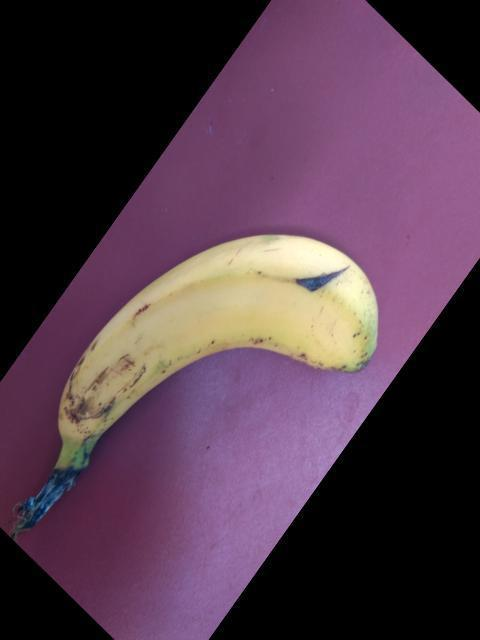ripe: (37, 223, 398, 432)
